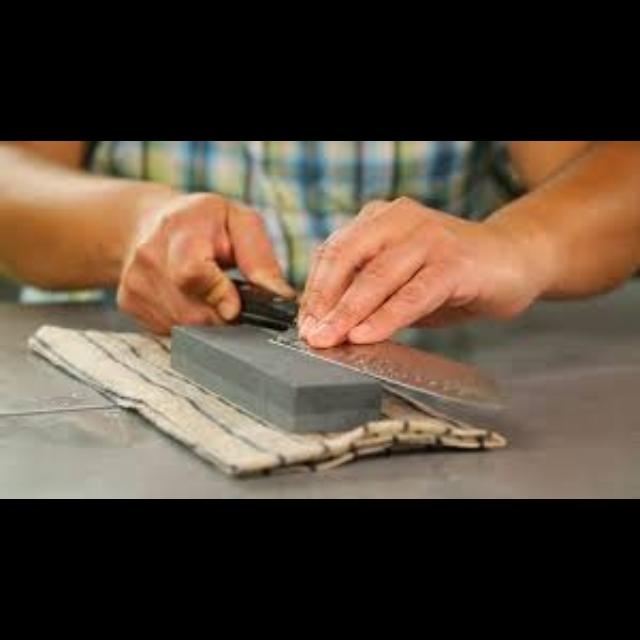knife: (0, 144, 640, 360), (226, 276, 509, 430), (121, 196, 273, 348)
